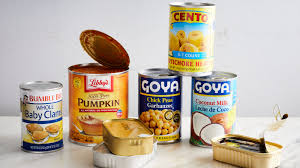can: (17, 1, 292, 168)
